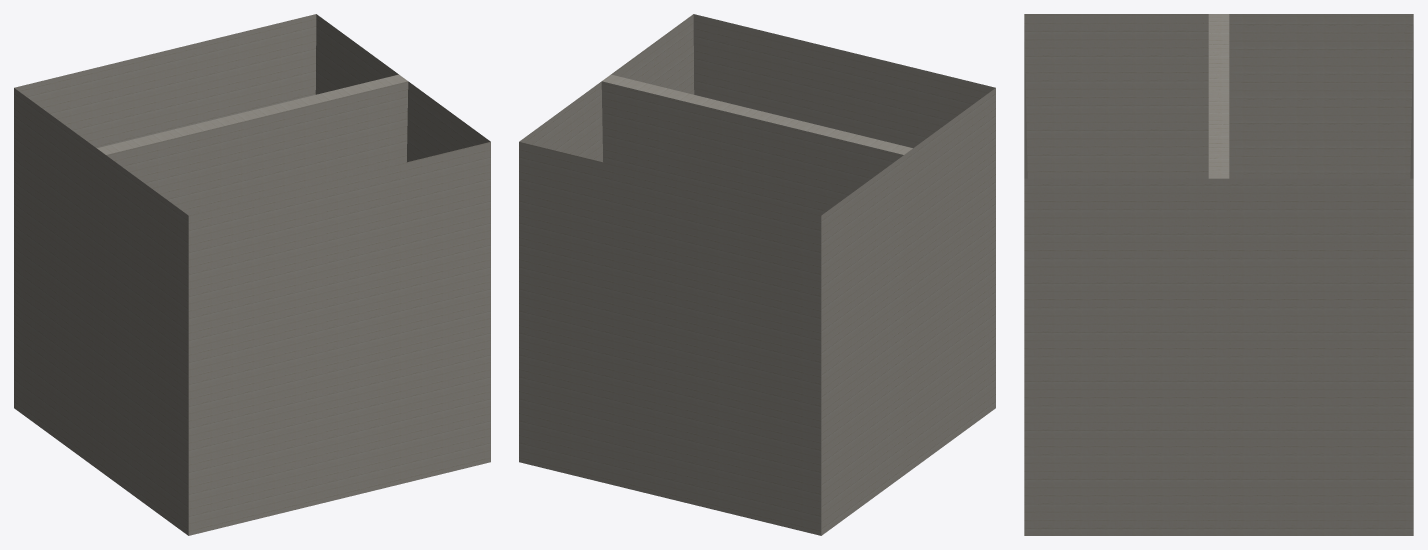
File: parkour_sciany.glb
3 renders of one model, left to right at view 1: azimuth 30°, elevation 25°; view 2: azimuth 150°, elevation 25°; view 3: azimuth 270°, elevation 25°, orthographic. The views are drawn at different scales.
Parts seen in each view (by area): view 1: Cube-col; view 2: Cube-col; view 3: Cube-col.
Part boxes in pixels (x1,y1,x2,y2): Cube-col: (14,14,490,535); Cube-col: (519,14,995,535); Cube-col: (1024,14,1413,535).
Size of the model in its own units: 160 by 162 by 160.
1 material, 1 textured.
